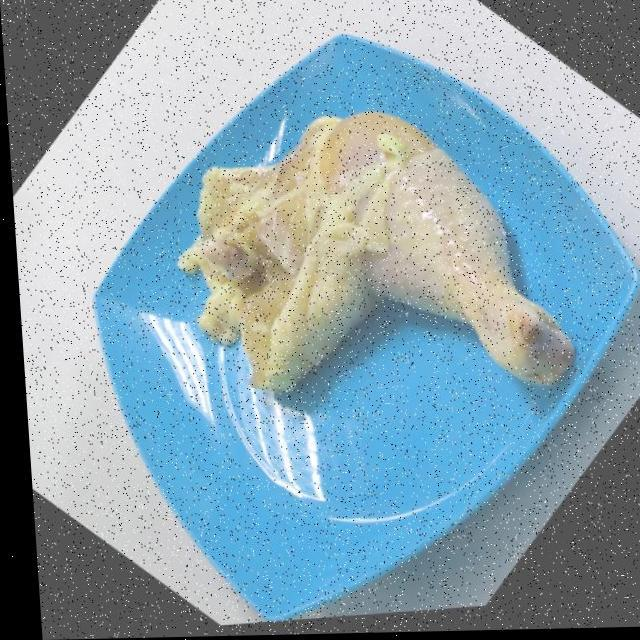quater: (190, 112, 556, 390)
